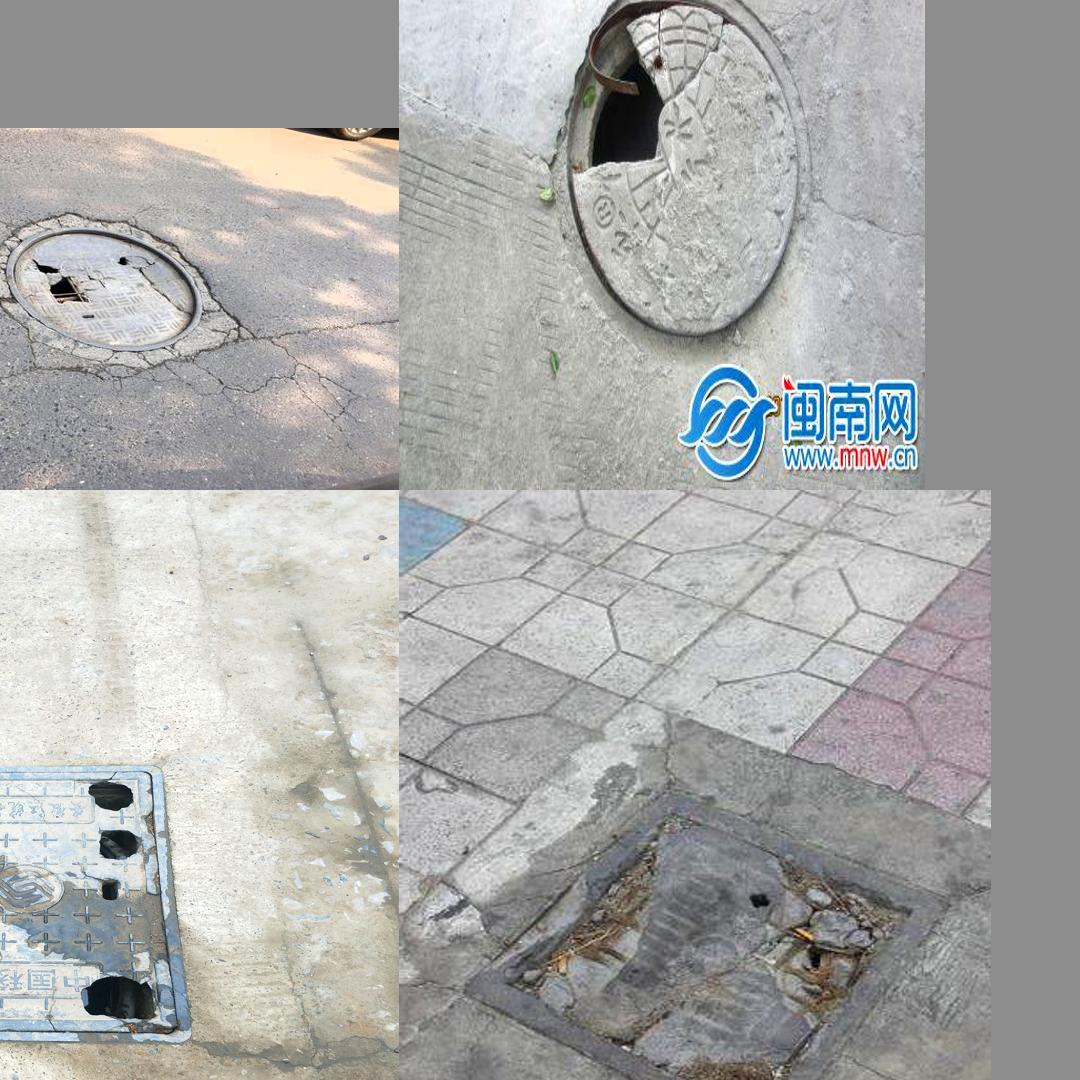broke: (439, 778, 953, 1080), (537, 0, 814, 357), (0, 765, 193, 1045), (0, 210, 240, 376)
